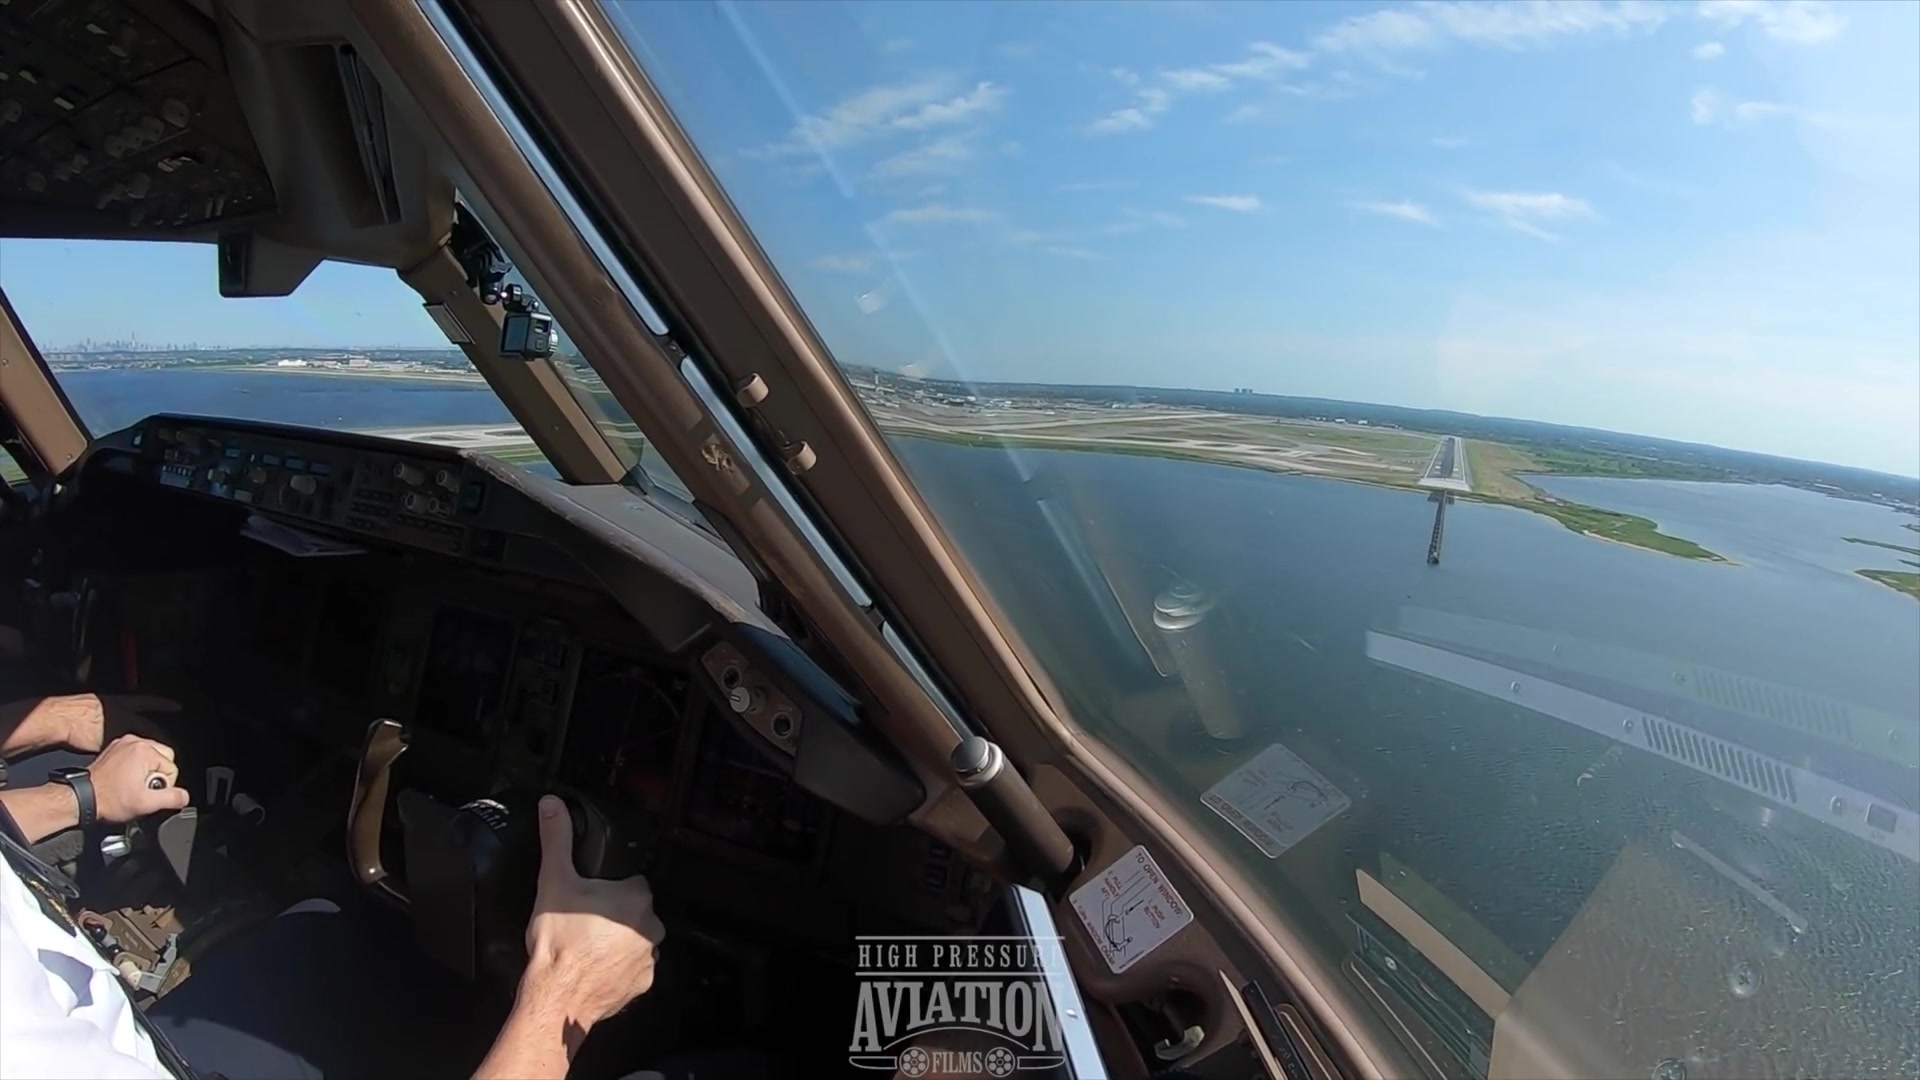runway: (1420, 431, 1466, 489)
